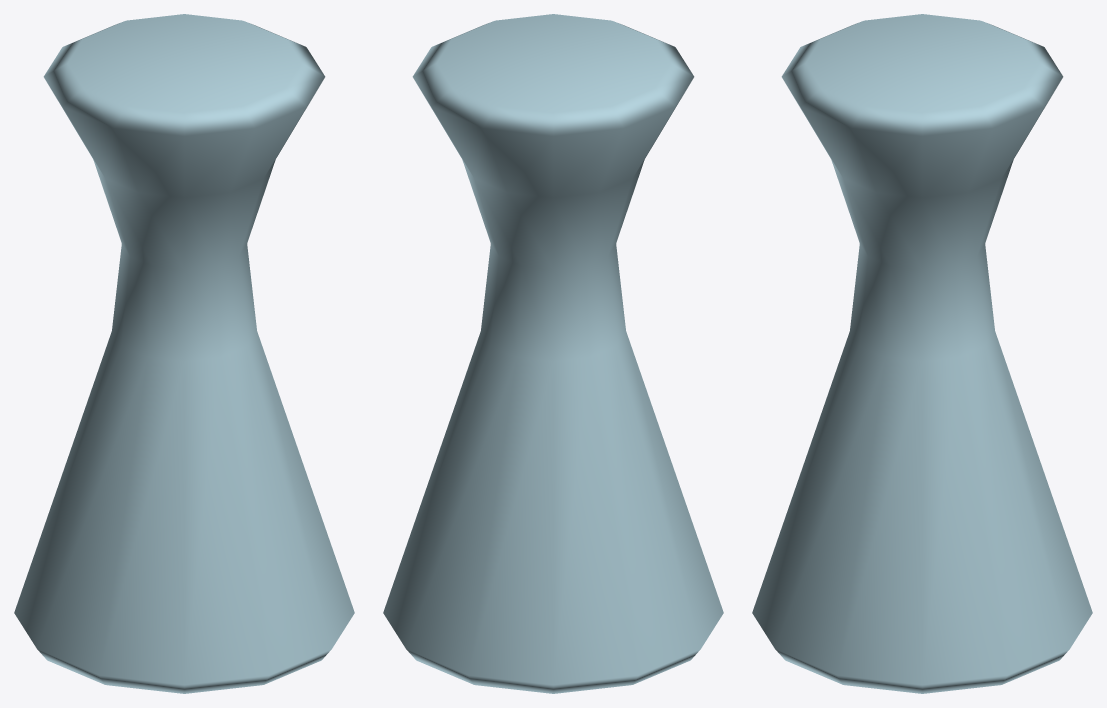
Rendered from Decoration_3.glb.
3 views of the same model, side by side, from view 1: azimuth 30°, elevation 25°; view 2: azimuth 150°, elevation 25°; view 3: azimuth 270°, elevation 25° (orthographic).
Visible parts, largest first — view 1: Decoration_3; view 2: Decoration_3; view 3: Decoration_3.
Boxes of the visible parts, x1,y1,x2,y2 form: Decoration_3: [14, 14, 354, 693]; Decoration_3: [383, 14, 723, 693]; Decoration_3: [752, 14, 1092, 693].
Bounding box in the file's own units: 0.1362 × 0.2486 × 0.1362.
1 material, 1 textured.
